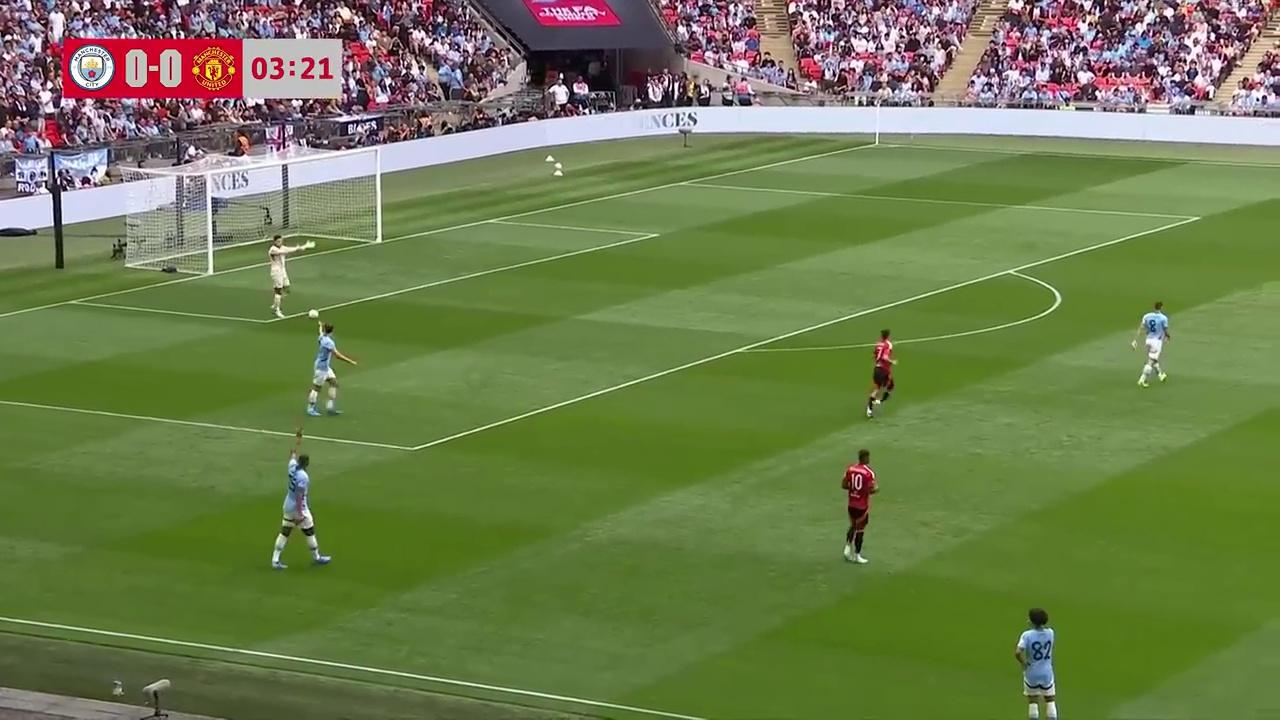ball: (308, 306, 319, 324)
player: (270, 441, 330, 570), (305, 323, 358, 416), (1015, 607, 1058, 720), (840, 449, 878, 563), (1133, 302, 1169, 386), (865, 329, 896, 417), (268, 238, 291, 318), (268, 242, 290, 318)
